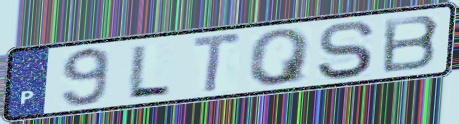9: (59, 45, 113, 109)
B: (379, 13, 443, 76)
L: (123, 42, 174, 99)
Q: (247, 25, 315, 88)
S: (313, 19, 378, 81)
T: (190, 30, 246, 96)
